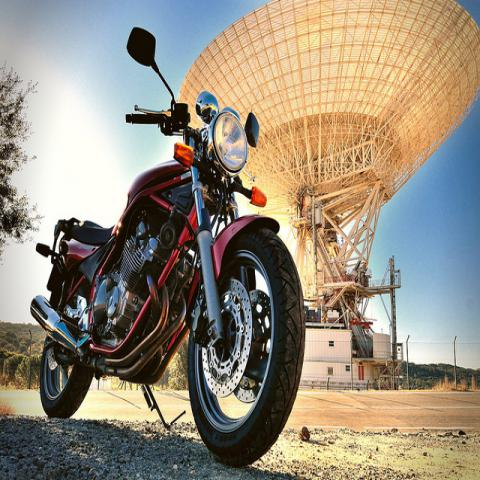motorcycle: (30, 26, 305, 466)
